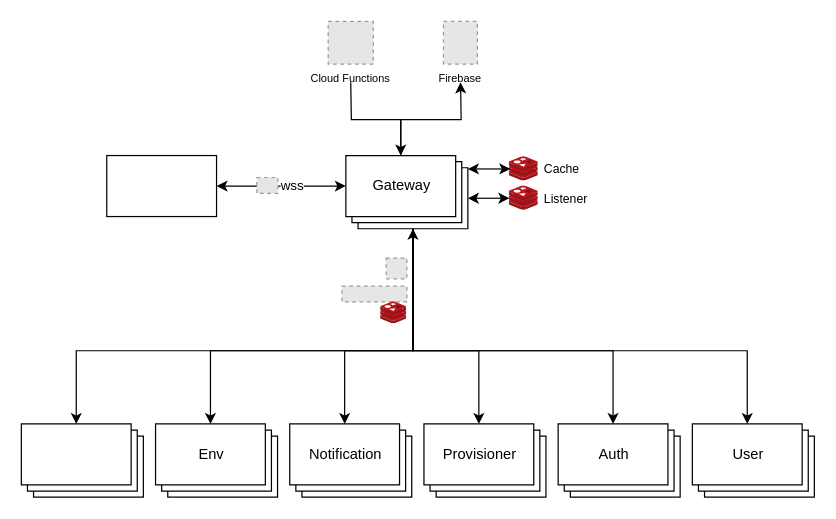
Image size: 836x519. Some labels were removed from this diagram. Grey dashed boxes stand in for pictures. The centre of each missing label's shape, as x and y in pixels:
H-IDE Client: point (161, 185)
Workspace: point (81, 460)
